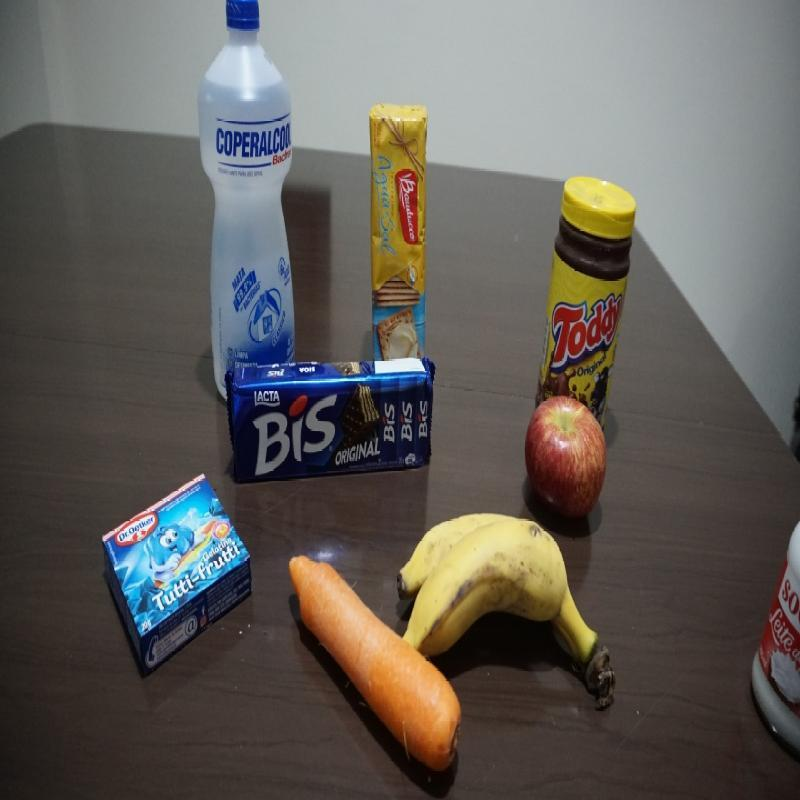Alcohol Bottle: (203, 1, 296, 352)
Apple: (521, 396, 619, 506)
Banana: (419, 510, 624, 744)
Carrot: (274, 544, 406, 764)
Chocolate Powder: (539, 174, 637, 383)
Cracker: (365, 103, 430, 355)
Gelatine: (106, 473, 246, 678)
